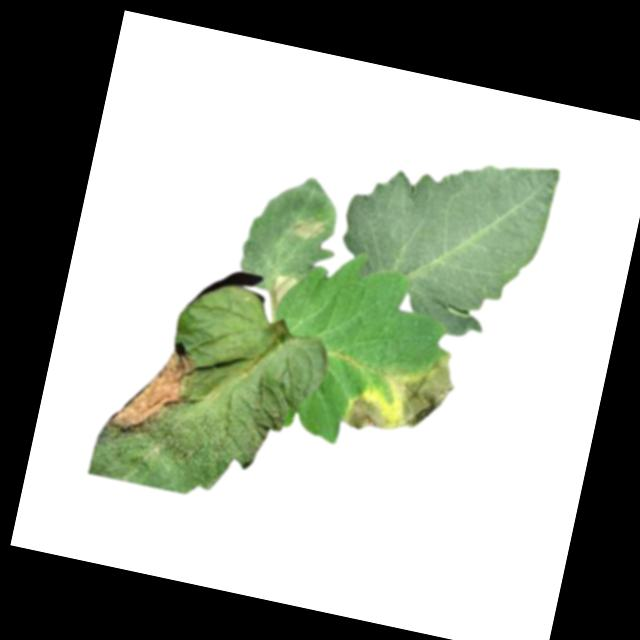Late_blight: (104, 335, 202, 450), (390, 343, 465, 437), (341, 390, 400, 436), (266, 274, 299, 316), (290, 212, 327, 244)
healthy: (326, 128, 562, 351)
